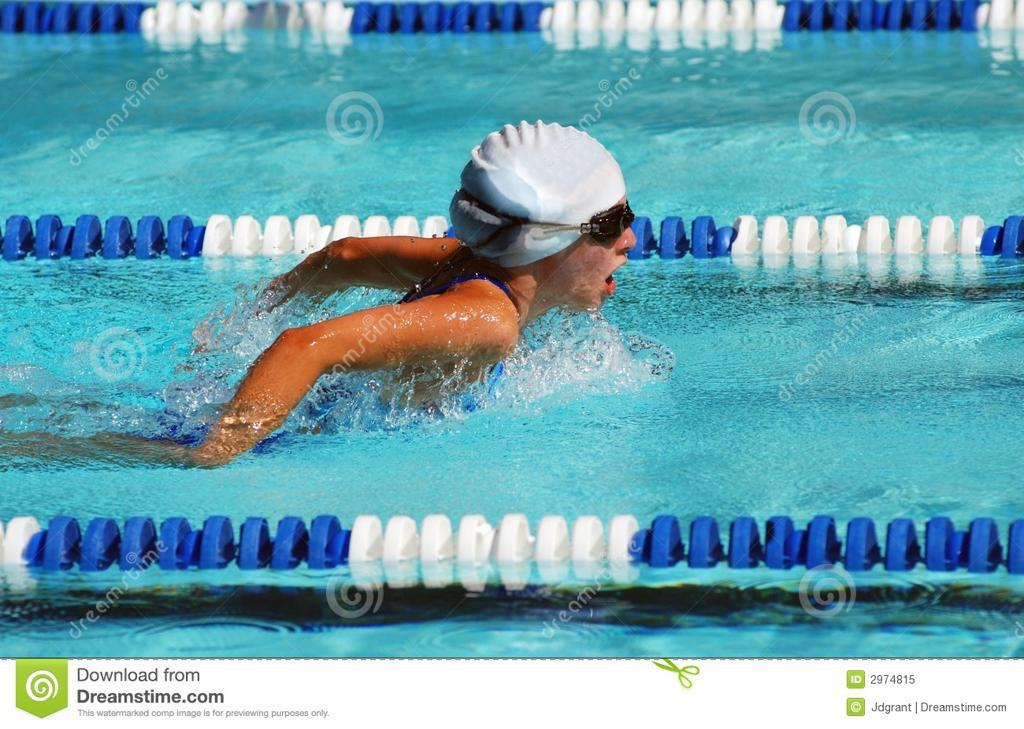face: (565, 181, 635, 311)
